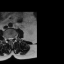CCS_normal: (10, 36, 11, 42)
LFS_stenosis: (13, 36, 14, 40)
LLS_normal: (11, 36, 12, 41)
RFS_normal: (7, 36, 8, 40)
RLS_normal: (8, 36, 10, 41)
